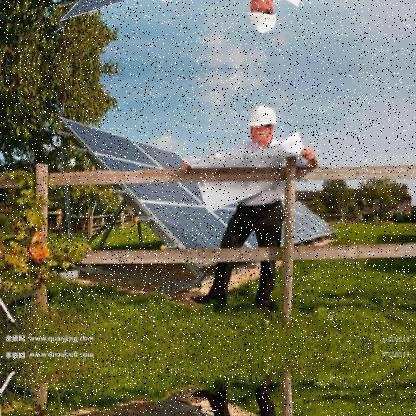Helmet: (247, 102, 280, 148), (245, 0, 282, 36)
